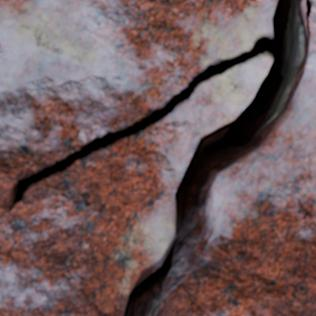broken_brick: (0, 55, 271, 315), (0, 0, 275, 211), (164, 0, 315, 315)
crack: (0, 0, 314, 315)
